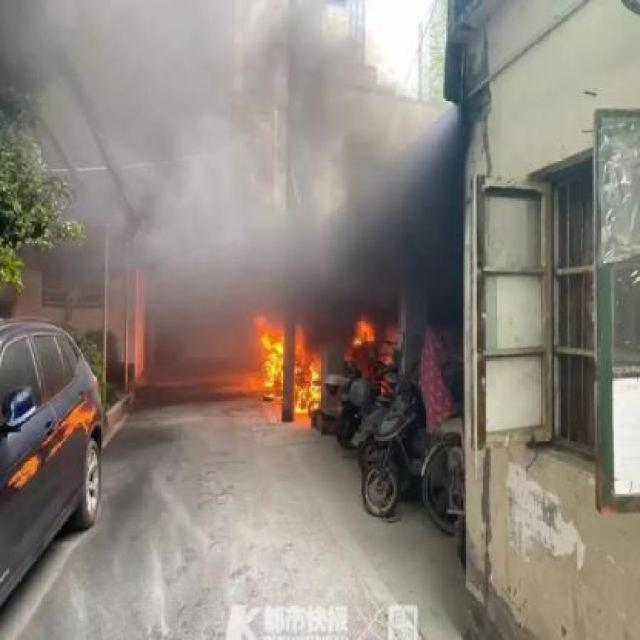Fire: (253, 310, 284, 404), (294, 328, 322, 416), (351, 310, 377, 352)
Smoke: (168, 172, 414, 332), (292, 60, 398, 332)
